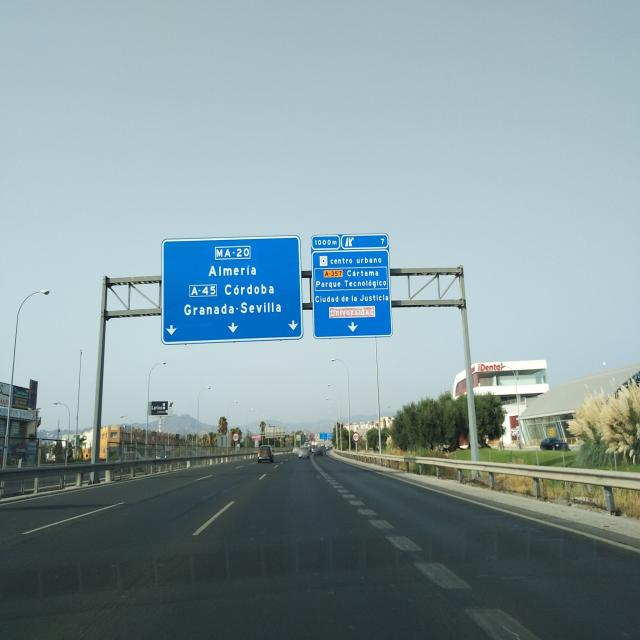car: (539, 438, 571, 452), (257, 444, 275, 464)
